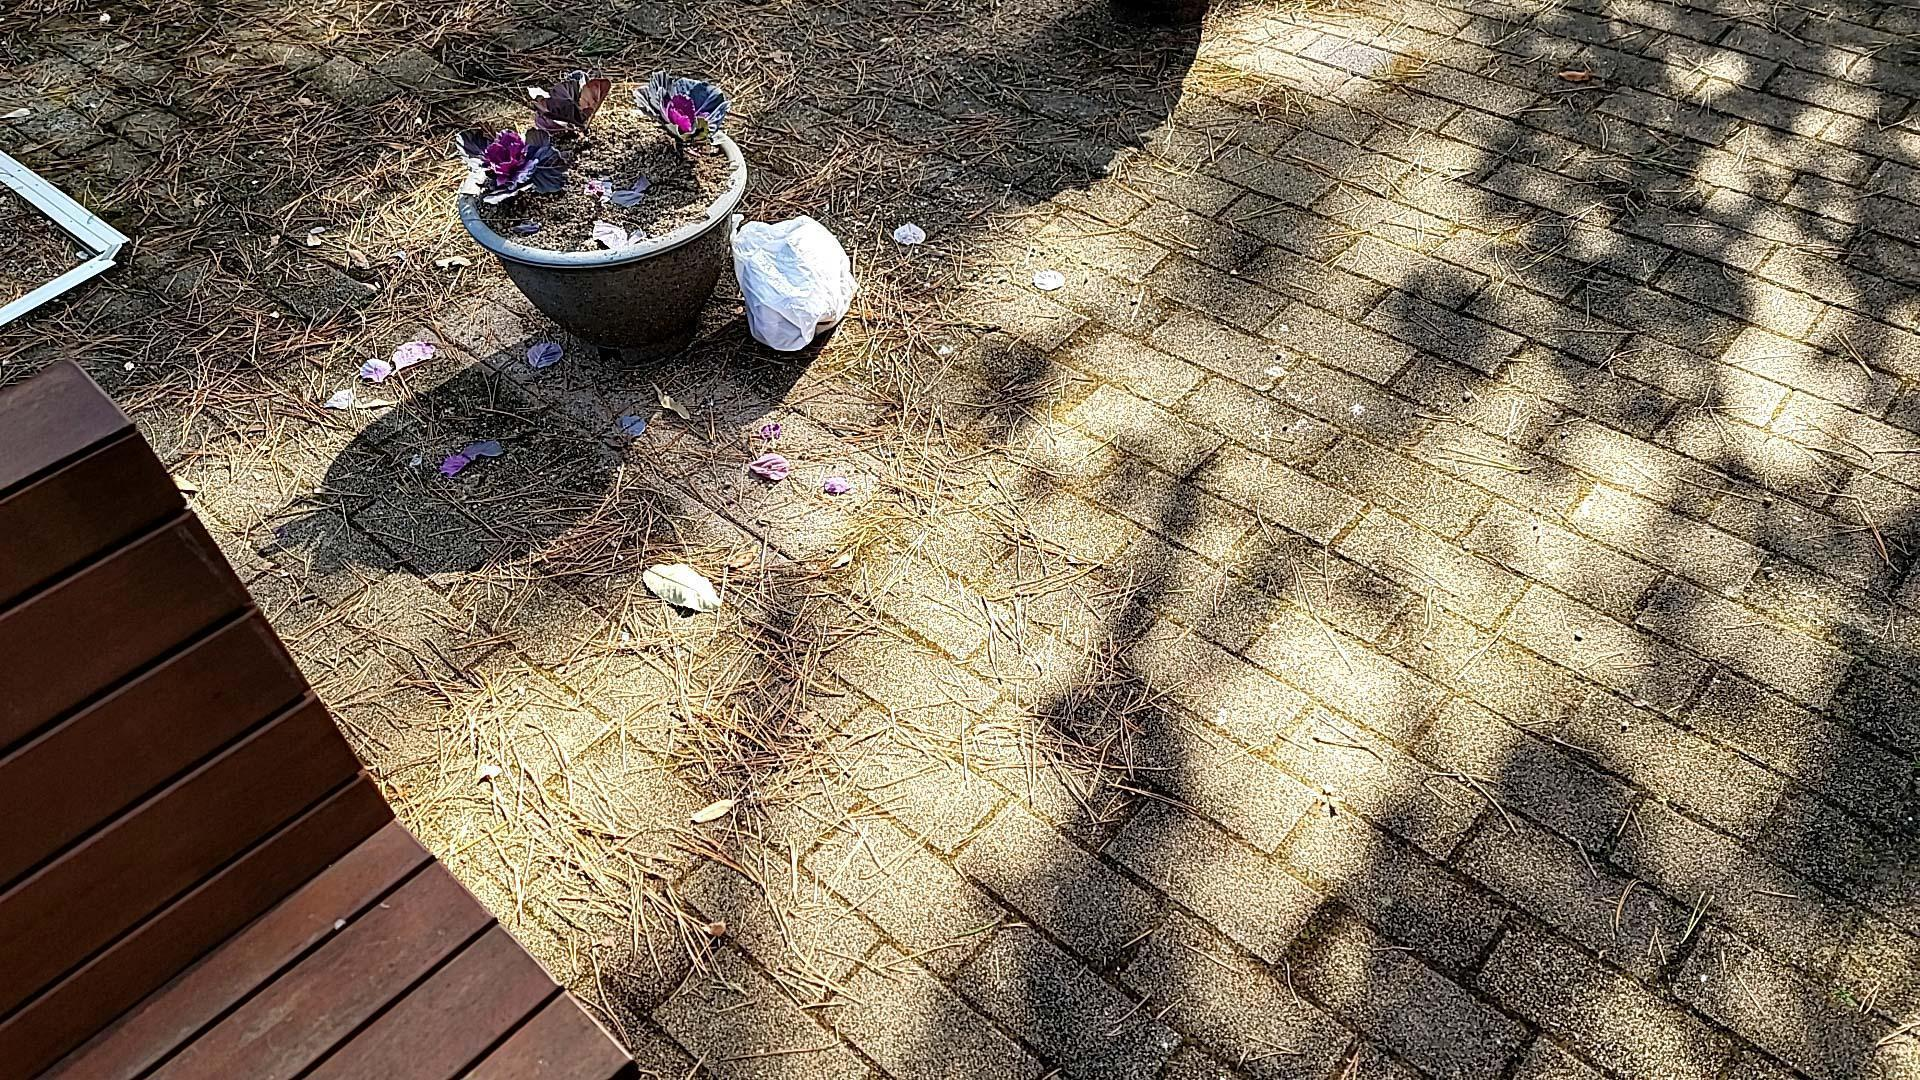white_bag: (717, 203, 877, 365)
